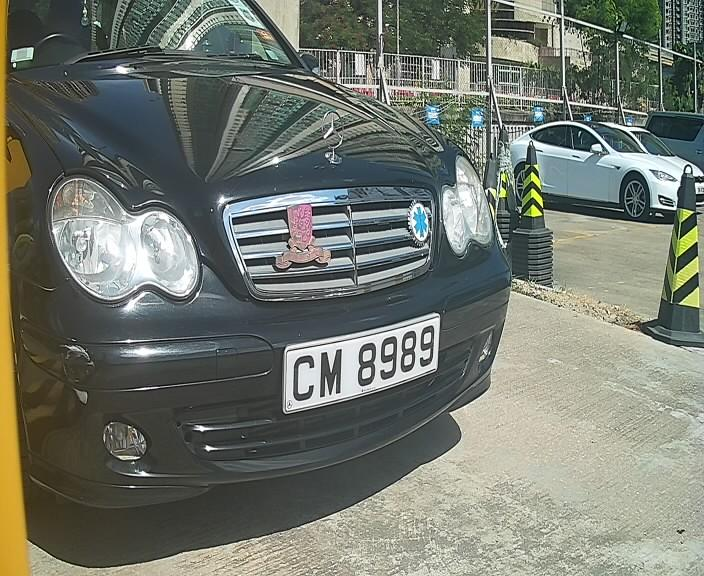License Plate: (283, 317, 444, 412)
